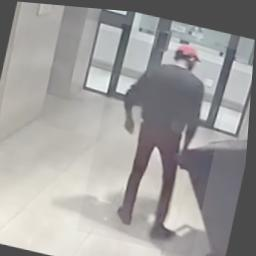nonspitting: (78, 18, 237, 256)
